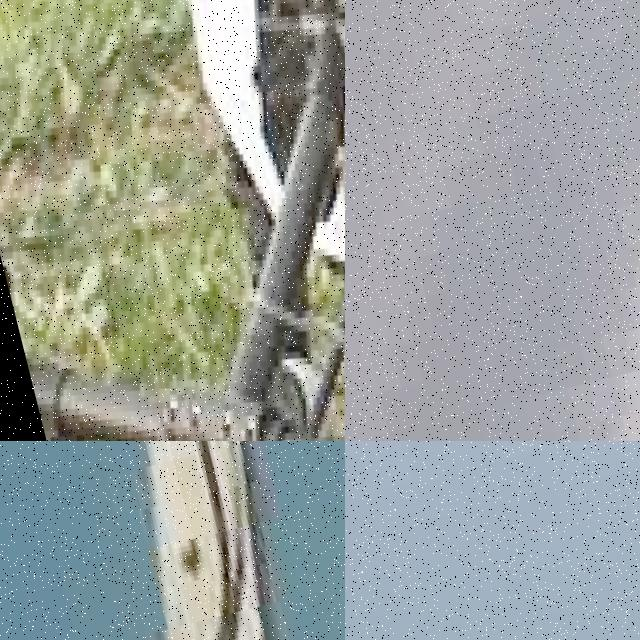drone: (0, 0, 345, 441)
